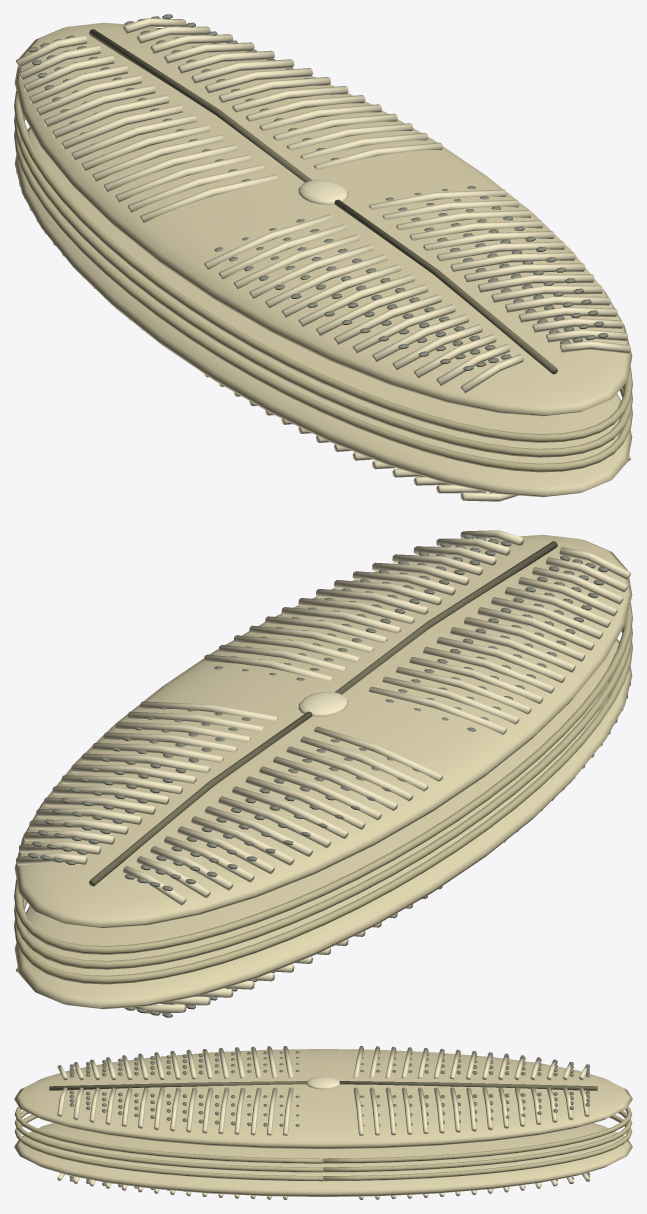
File: Diatom.fbx
3 renders of one model, top to bottom at view 1: azimuth 30°, elevation 25°; view 2: azimuth 150°, elevation 25°; view 3: azimuth 270°, elevation 25°, orthographic. The views are drawn at different scales.
Visible parts, largest first — view 1: Diatom_Silica_valves, Diatom_Silica_ribs, Diatom_Girdle_bands, Diatom_Recessed_areolae, Diatom_Raphe_slit; view 2: Diatom_Silica_valves, Diatom_Silica_ribs, Diatom_Girdle_bands, Diatom_Recessed_areolae, Diatom_Raphe_slit; view 3: Diatom_Silica_valves, Diatom_Silica_ribs, Diatom_Girdle_bands, Diatom_Recessed_areolae, Diatom_Raphe_slit.
Boxes of the visible parts, <box> form: Diatom_Silica_valves: <box>14,22,632,497</box>; Diatom_Silica_ribs: <box>16,18,630,501</box>; Diatom_Girdle_bands: <box>14,90,632,472</box>; Diatom_Recessed_areolae: <box>28,14,608,492</box>; Diatom_Raphe_slit: <box>89,29,557,374</box>; Diatom_Silica_valves: <box>14,534,632,1009</box>; Diatom_Silica_ribs: <box>16,530,630,1013</box>; Diatom_Girdle_bands: <box>14,602,632,984</box>; Diatom_Recessed_areolae: <box>28,534,608,1017</box>; Diatom_Raphe_slit: <box>89,541,557,886</box>; Diatom_Silica_valves: <box>14,1049,632,1196</box>; Diatom_Silica_ribs: <box>57,1046,589,1199</box>; Diatom_Girdle_bands: <box>14,1106,632,1181</box>; Diatom_Recessed_areolae: <box>69,1051,589,1191</box>; Diatom_Raphe_slit: <box>49,1081,597,1090</box>.
Size of the model in its own units: 0.3667 by 0.1542 by 1.
